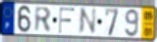6: (17, 4, 33, 35)
7: (104, 8, 120, 38)
9: (124, 8, 140, 39)
F: (58, 7, 76, 35)
N: (77, 7, 98, 36)
R: (34, 5, 52, 34)
